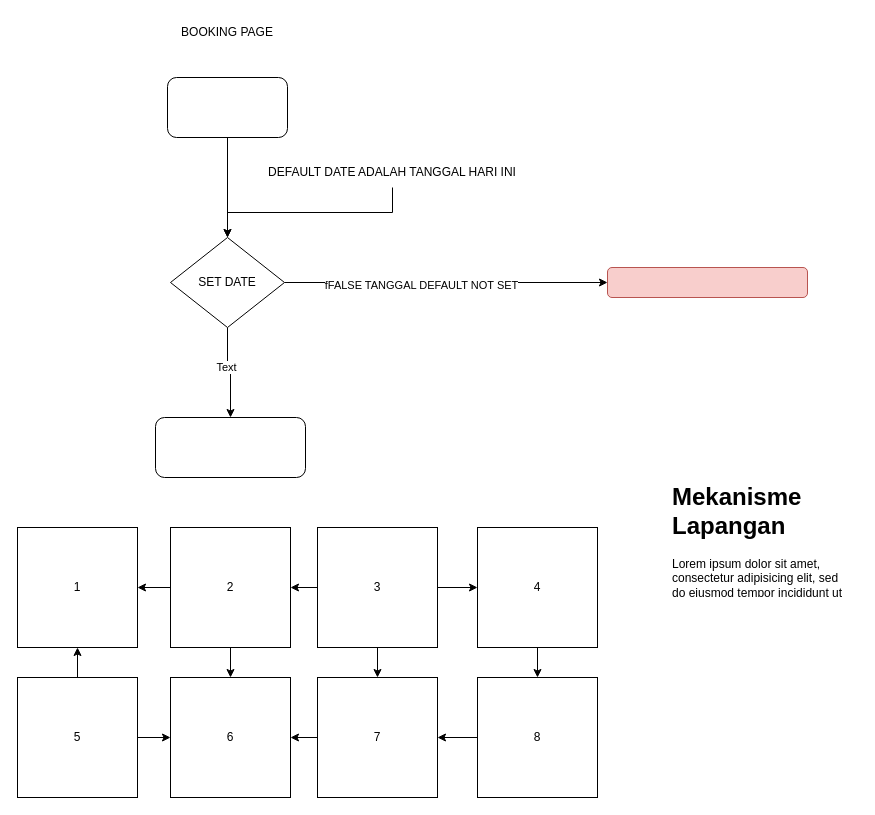
Image size: 875x815. Some labels were removed from this diagram. Each missing label, with the box of its shape:
DISPLAY LAPANGAN DI HARI INI SESUAI DEFAULT: (606, 266, 808, 298)
DISPLAY LAPANGAN SESUAI DATES YANG DI TENTUKAN: (154, 416, 306, 478)
START: (166, 76, 288, 138)
